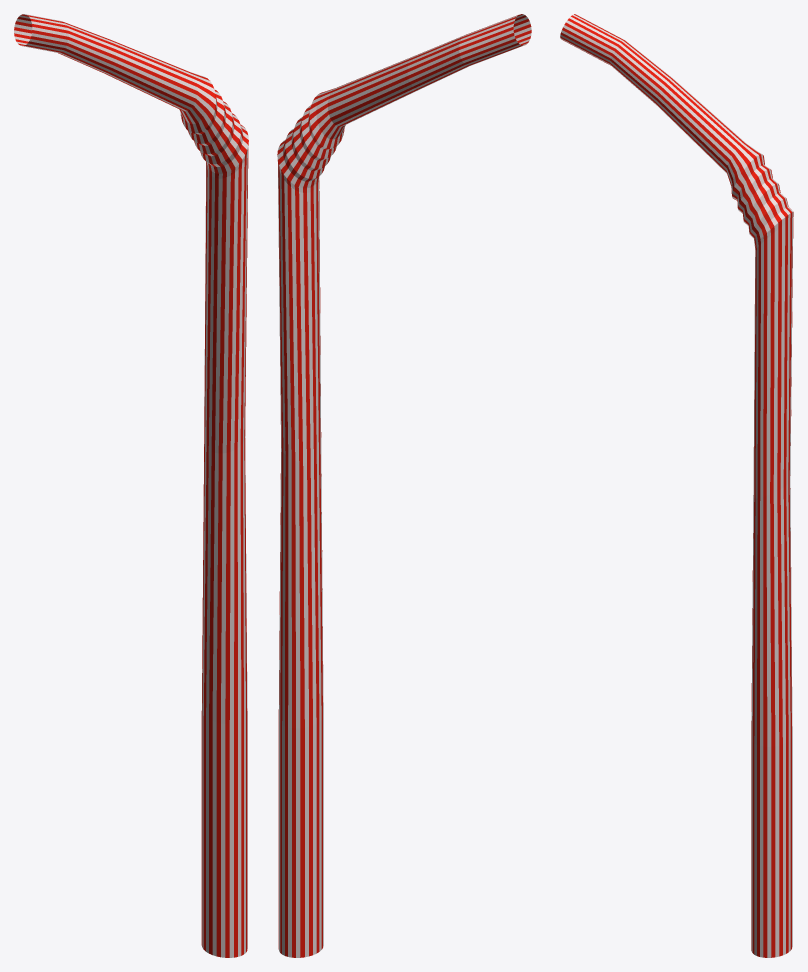
Rendered from palhinha.fbx.
3 views of the same model, side by side, from view 1: azimuth 30°, elevation 25°; view 2: azimuth 150°, elevation 25°; view 3: azimuth 330°, elevation 25° (orthographic). The views are drawn at different scales.
Visible parts, largest first — view 1: Circle.001; view 2: Circle.001; view 3: Circle.001.
Boxes of the visible parts, bbox=[...] form: Circle.001: bbox=[14, 14, 248, 957]; Circle.001: bbox=[277, 14, 531, 957]; Circle.001: bbox=[560, 14, 793, 957].
Bounding box in the file's own units: 76.45 × 307 × 19.91.
